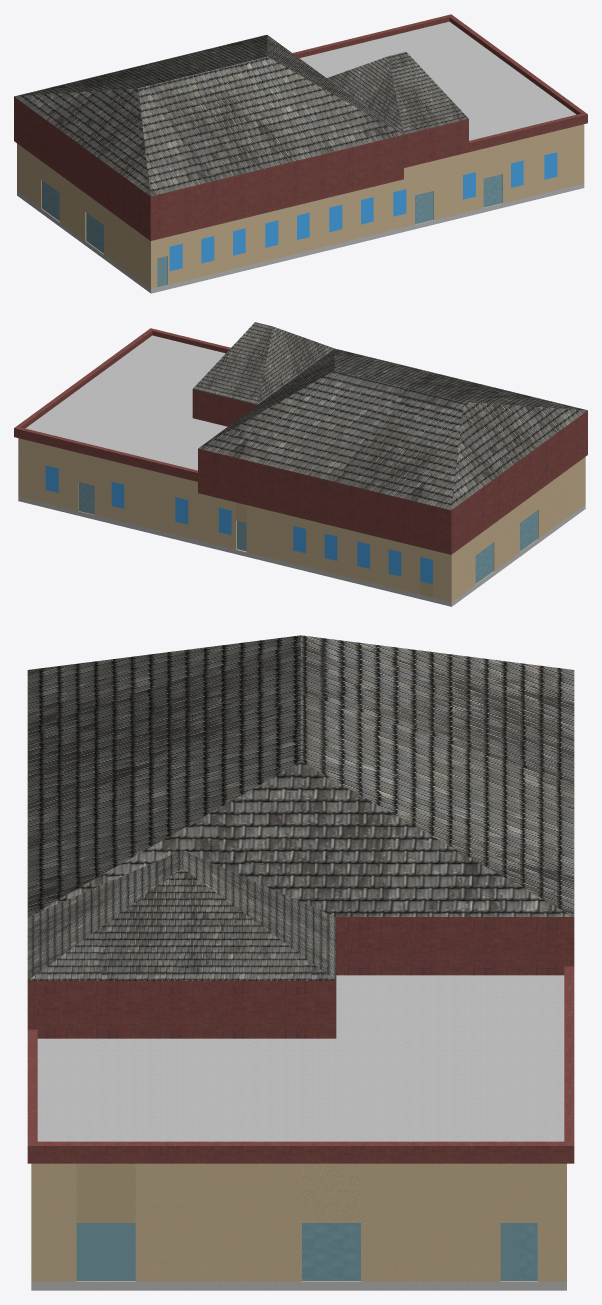
The model's file is Ozone_Generator_Room.glb.
3 renders of one model, top to bottom at view 1: azimuth 30°, elevation 25°; view 2: azimuth 150°, elevation 25°; view 3: azimuth 270°, elevation 25°, orthographic. The views are drawn at different scales.
Visible parts, largest first — view 1: Roof, Floor1; view 2: Roof, Floor1; view 3: Roof, Floor1.
Part boxes in pixels (<box>): Roof: <box>14,14,587,240</box>; Floor1: <box>17,124,584,293</box>; Roof: <box>14,322,587,554</box>; Floor1: <box>18,438,585,606</box>; Roof: <box>27,635,574,1163</box>; Floor1: <box>31,1163,566,1290</box>.
Size of the model in its own units: 41.01 by 12.8 by 22.2.
Materials: 7 (7 with a texture image).
